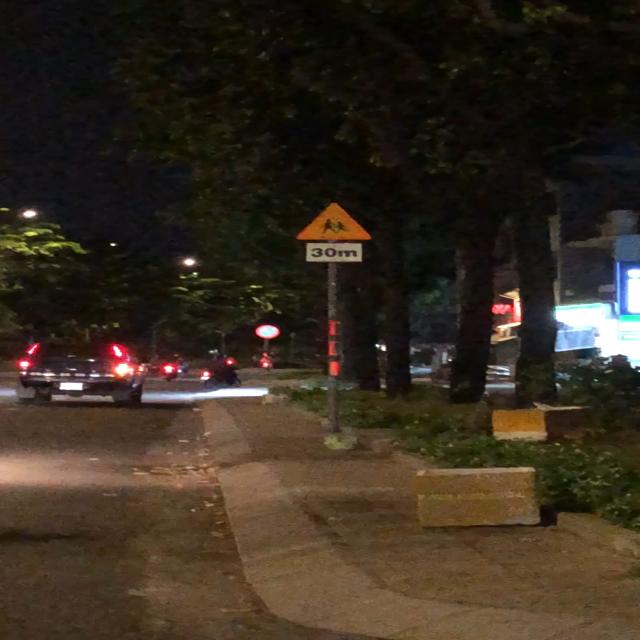Bien bao tre em: (294, 200, 374, 244)
